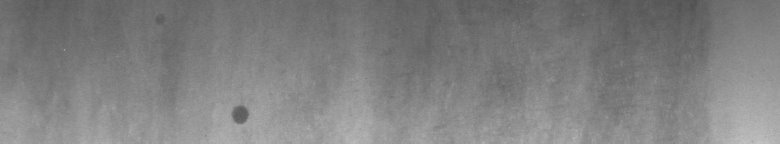fi: (227, 100, 255, 132)
